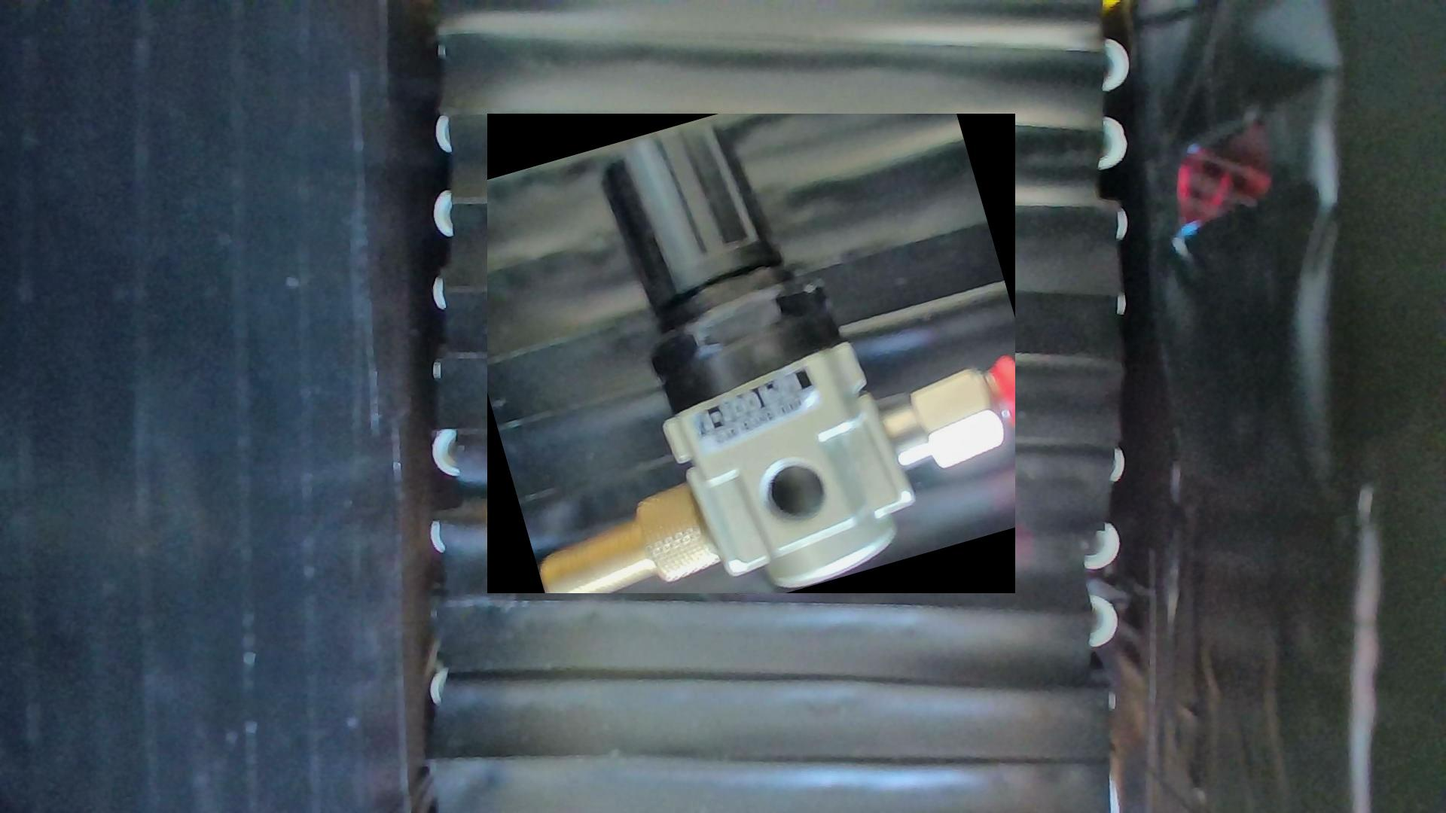regulator: (487, 114, 1015, 593)
